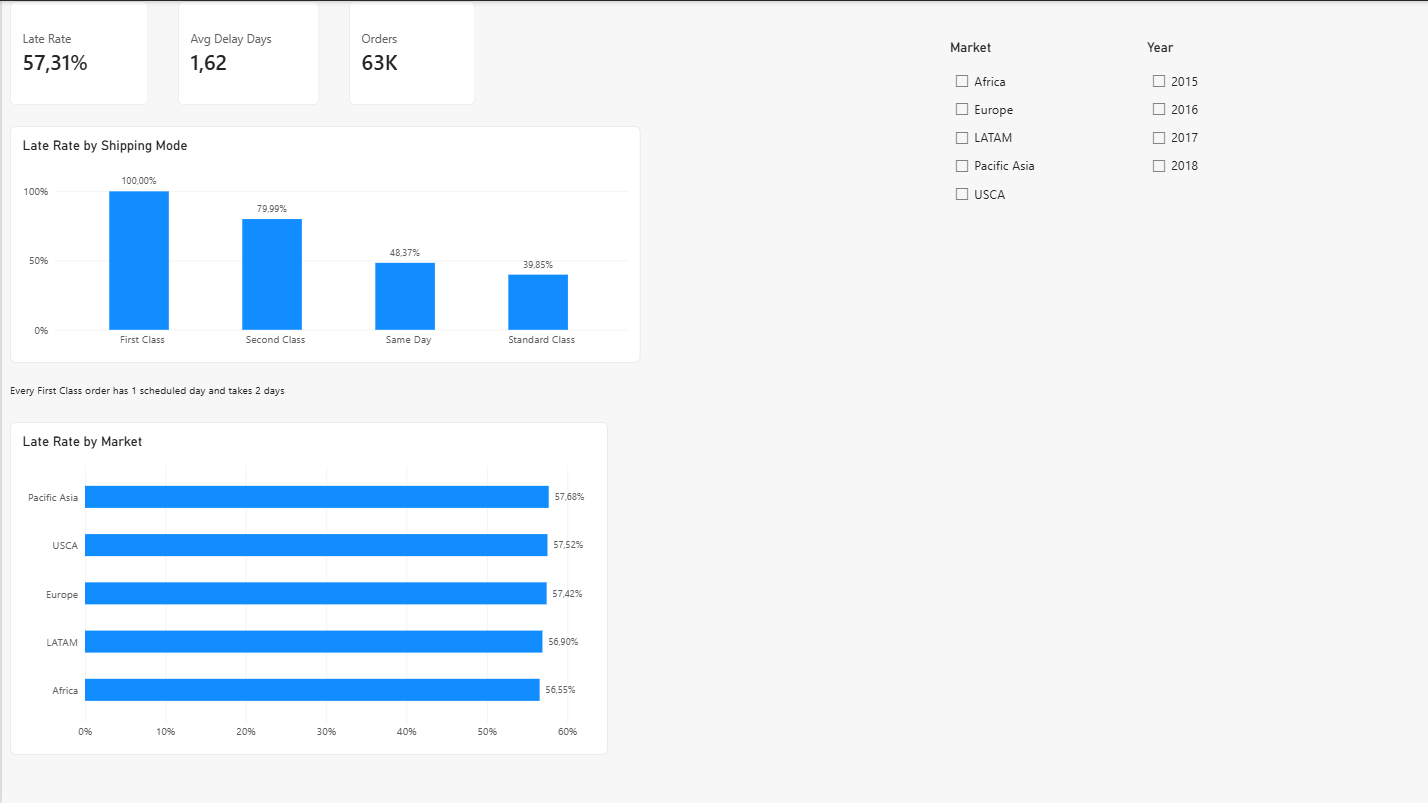

The page's visual inventory and layout, read from the dashboard file:
{"tool":"powerbi","page":{"name":"Shipping","canvas":[1920,1080],"ordinal":1},"visuals":[{"type":"cardVisual","fields":{"Data":["dw fact_orders.Late Rate"]},"box":[10.6,0,186.1,140.7],"z":0},{"type":"clusteredColumnChart","title":"Late Rate by Shipping Mode","fields":{"Category":["dw dim_shipping_mode.shipping_mode"],"Y":["dw fact_orders.Late Rate"]},"box":[10.6,168.5,849.3,319.4],"z":0,"group":"g1"},{"type":"cardVisual","fields":{"Data":["dw fact_orders.Avg Delay Days"]},"box":[236.8,0,190.6,140.7],"z":1000},{"type":"textbox","box":[10.6,515.1,849.3,64.7],"z":1000,"group":"g1"},{"type":"cardVisual","fields":{"Data":["dw fact_orders.Orders"]},"box":[467.5,0,171,140.7],"z":2000},{"type":"group","id":"g1","title":"Group 1","box":[10.6,168.5,848.7,409.7],"z":3000},{"type":"clusteredBarChart","title":"Late Rate by Market","fields":{"Category":["dw dim_market.market"],"Y":["dw fact_orders.Late Rate"]},"box":[10.6,567.3,805.4,448.3],"z":4000},{"type":"slicer","title":"Year","fields":{"Values":["dw dim_date.year_num"]},"box":[1541.3,51,116.3,234.2],"z":5000},{"type":"slicer","title":"Market","fields":{"Values":["dw dim_market.market"]},"box":[1276.9,51,150.4,234.2],"z":6000}]}

Visuals, with their boxes in screenshot pixels (x1, y1, x2, y2), scaled from the page's 1920x1080 canvas onto the 1428x803 screenshot:
cardVisual - dw fact_orders.Late Rate: box(8, 0, 146, 105)
"Late Rate by Shipping Mode" clusteredColumnChart: box(8, 125, 640, 363)
cardVisual - dw fact_orders.Avg Delay Days: box(176, 0, 318, 105)
textbox: box(8, 383, 640, 431)
cardVisual - dw fact_orders.Orders: box(348, 0, 475, 105)
"Group 1" group: box(8, 125, 639, 430)
"Late Rate by Market" clusteredBarChart: box(8, 422, 607, 755)
"Year" slicer: box(1146, 38, 1233, 212)
"Market" slicer: box(950, 38, 1062, 212)
